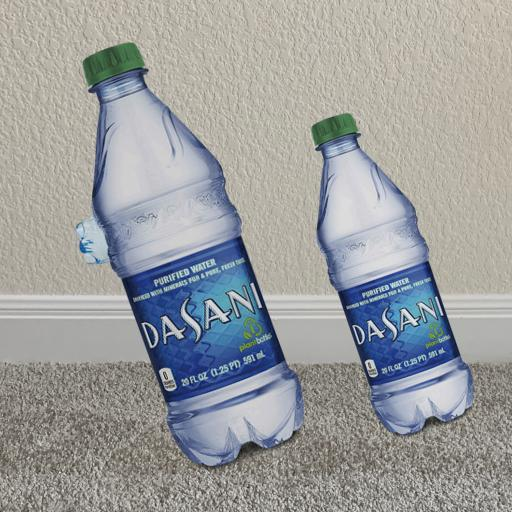plastic_bottle: (311, 110, 477, 435)
